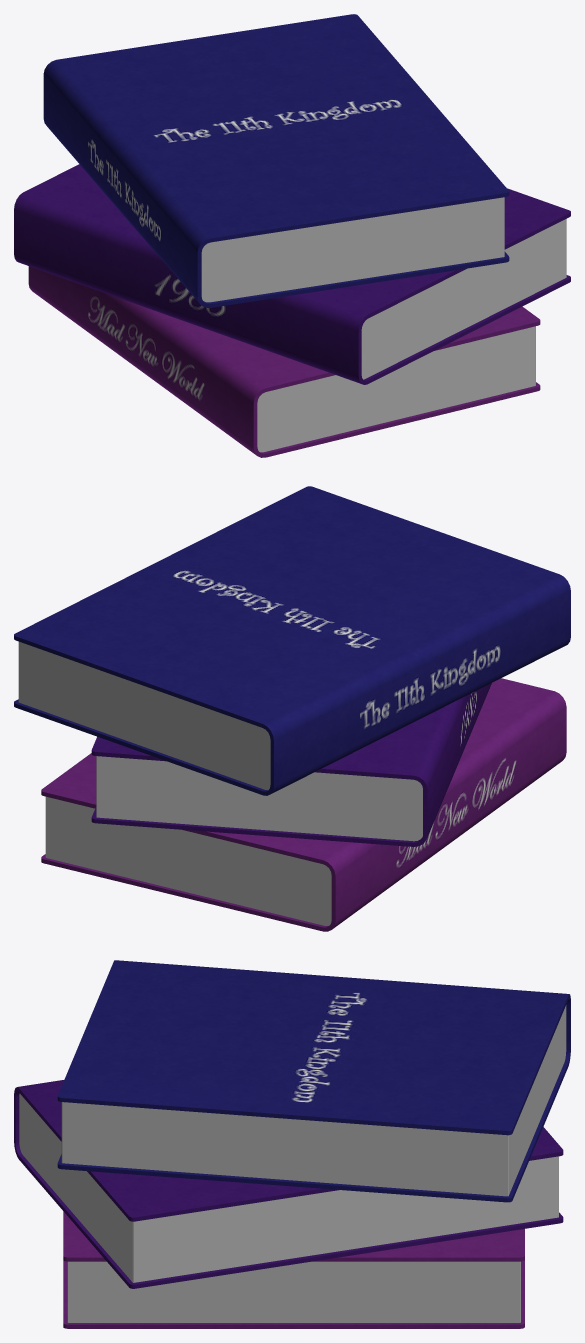
3 renders of one model, top to bottom at view 1: azimuth 30°, elevation 25°; view 2: azimuth 150°, elevation 25°; view 3: azimuth 270°, elevation 25°, orthographic. The views are drawn at different scales.
Visible parts, largest first — view 1: Book.002; view 2: Book.002; view 3: Book.002.
Boxes of the visible parts, <box> form: Book.002: <box>14,14,570,457</box>; Book.002: <box>14,486,570,931</box>; Book.002: <box>14,960,570,1328</box>.
Size of the model in its own units: 0.2123 by 0.105 by 0.2476.
1 material, 1 textured.
